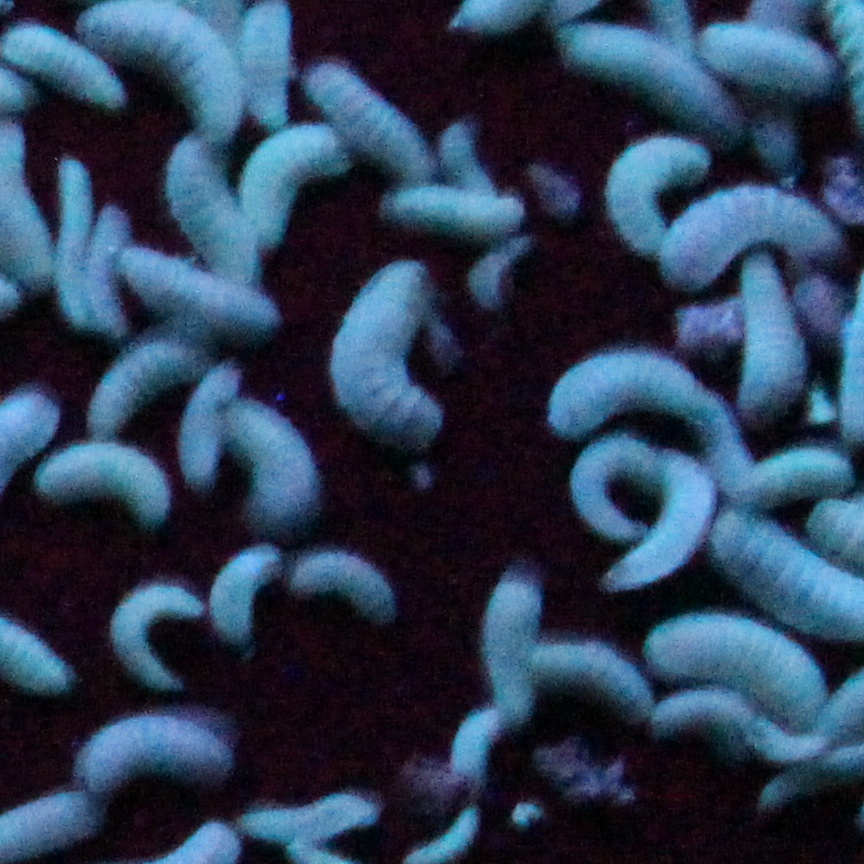larve: (327, 258, 445, 452), (646, 183, 842, 274), (112, 2, 239, 141), (654, 624, 820, 722), (121, 251, 281, 344), (559, 32, 716, 122), (165, 132, 257, 281), (545, 356, 707, 433), (615, 462, 707, 590), (96, 580, 202, 687), (735, 260, 801, 429), (709, 17, 833, 101), (9, 20, 122, 110), (70, 723, 230, 785), (607, 137, 699, 244), (538, 640, 656, 723), (47, 163, 106, 328), (378, 178, 536, 239), (239, 408, 317, 527), (88, 342, 195, 426), (486, 578, 549, 719), (325, 76, 422, 166), (576, 434, 657, 541), (251, 132, 335, 230), (57, 443, 161, 522), (730, 446, 854, 510), (203, 551, 281, 651), (84, 197, 140, 334), (291, 546, 400, 613), (181, 365, 240, 479), (237, 0, 289, 128), (242, 801, 383, 841)
